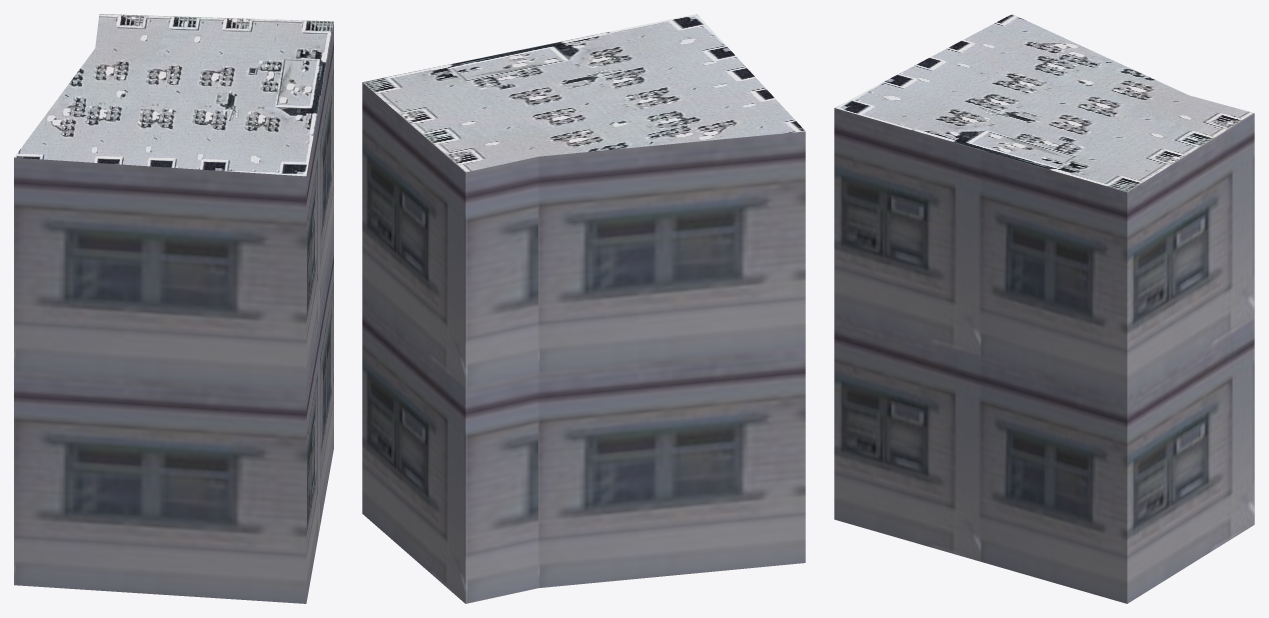
The model's file is ResTex__5260.fbx.
3 views of the same model, side by side, from view 1: azimuth 30°, elevation 25°; view 2: azimuth 150°, elevation 25°; view 3: azimuth 270°, elevation 25° (orthographic). The views are drawn at different scales.
Parts seen in each view (by area): view 1: CityEngineMaterial_1_m, CityEngineMaterial_m; view 2: CityEngineMaterial_1_m, CityEngineMaterial_m; view 3: CityEngineMaterial_1_m, CityEngineMaterial_m.
Boxes of the visible parts, left/top/right/bottom form: CityEngineMaterial_1_m: left=14, top=22, right=333, bottom=603; CityEngineMaterial_m: left=14, top=14, right=333, bottom=176; CityEngineMaterial_1_m: left=362, top=82, right=805, bottom=603; CityEngineMaterial_m: left=362, top=14, right=805, bottom=172; CityEngineMaterial_1_m: left=834, top=108, right=1254, bottom=603; CityEngineMaterial_m: left=835, top=14, right=1253, bottom=192.
Bounding box in the file's own units: 5.58 × 6 × 5.55.
Materials: 2 (2 with a texture image).
